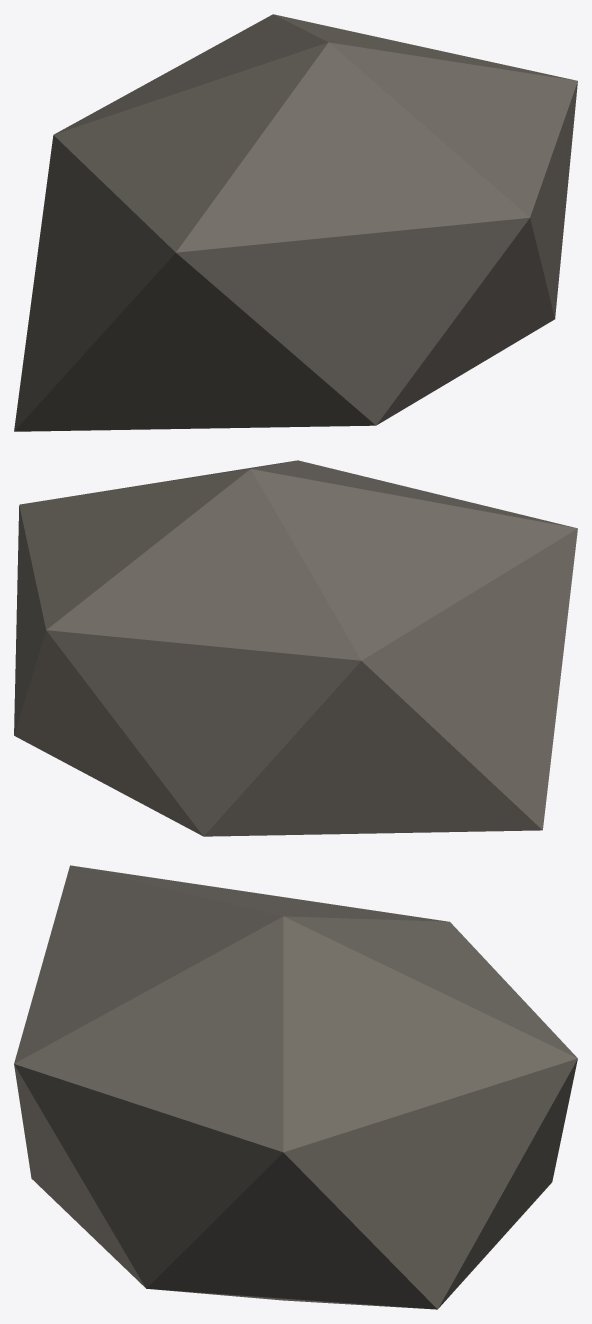
File: HS_LP_Rock_Small_03.fbx
3 renders of one model, top to bottom at view 1: azimuth 30°, elevation 25°; view 2: azimuth 150°, elevation 25°; view 3: azimuth 270°, elevation 25°, orthographic. The views are drawn at different scales.
Parts seen in each view (by area): view 1: HS_LP_Rock_Small_03; view 2: HS_LP_Rock_Small_03; view 3: HS_LP_Rock_Small_03.
Boxes of the visible parts, <box> form: HS_LP_Rock_Small_03: <box>14,14,577,431</box>; HS_LP_Rock_Small_03: <box>14,460,577,836</box>; HS_LP_Rock_Small_03: <box>14,865,577,1309</box>.
Size of the model in its own units: 46.68 by 28.45 by 37.85.
